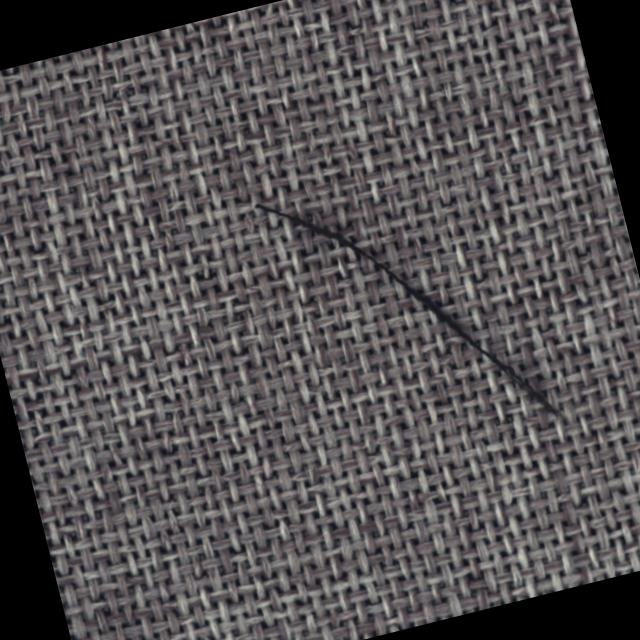Thread: (251, 141, 570, 490)
